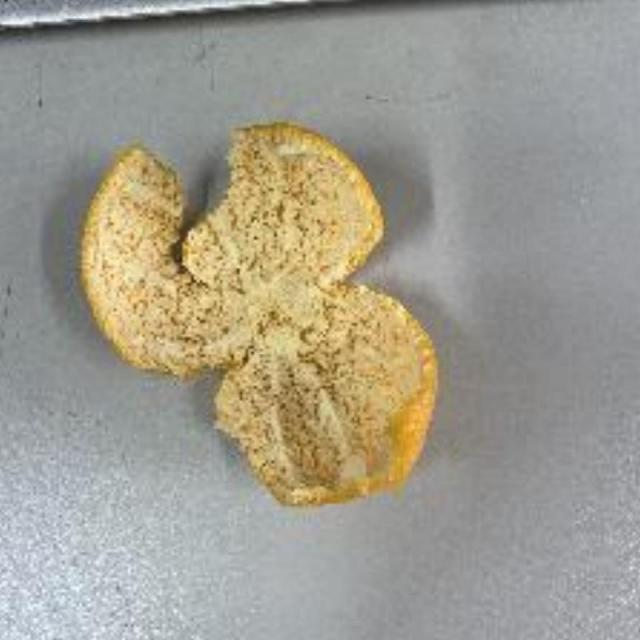orange peel: (68, 117, 441, 513)
